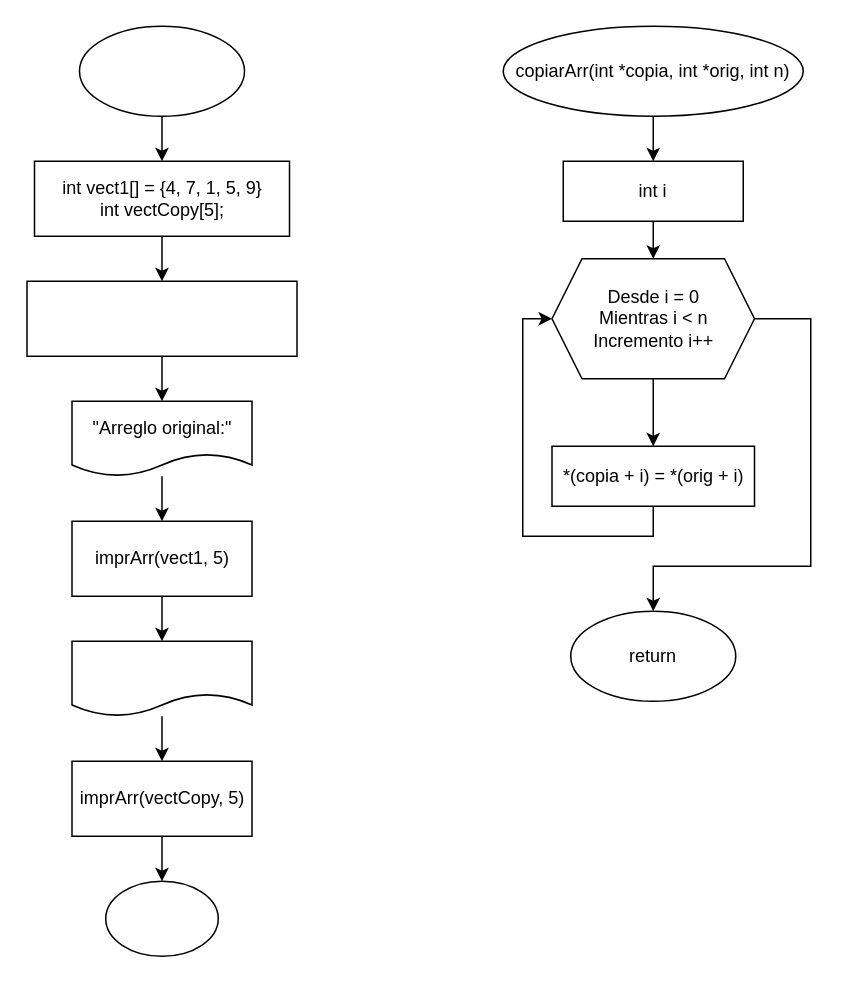
Some shapes in this 849 by 983 pixel diagram are drawn without their labels. The shapes that lost their labels are listed below. From the top down, each one's centre as x and y in pixels, then its label:
(161,70): Case 2:
(161,318): copiarArr(vectCopy, vect1, 5)
(161,678): "Arreglo copia:"
(161,918): break
